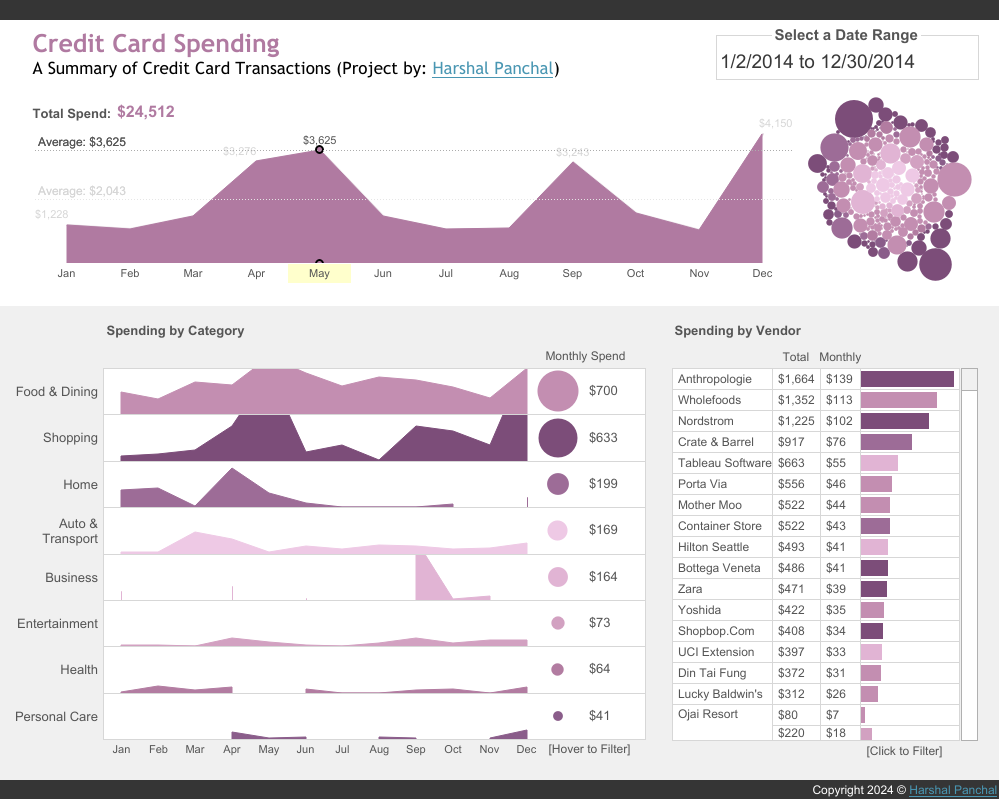

This screenshot's page, from the dashboard's own definition file:
{"tool":"tableau","page":{"name":"Credit Card Spending","canvas":[1000,800],"ordinal":0},"visuals":[{"type":"text","box":[0,0,1000,20]},{"type":"text","box":[8,8,984,784]},{"type":"text","box":[772,25,149,20]},{"type":"text","box":[30,26,644,54]},{"type":"text","box":[716,35,263,45]},{"type":"filter","title":"Monthly Total Expenses","param":"[excel-direct.42173.387268669000].[none:Posted Date:qk]","box":[717,50,261,24]},{"type":"worksheet","title":"Name Monthly Bubble","mark":"Circle","rows":["Calculation_9730618123512405"],"cols":["Calculation_9730618123512405"],"box":[795,96,190,197]},{"type":"text","box":[30,98,100,30]},{"type":"worksheet","title":"Total","mark":"Automatic","rows":["Calculation_9730618123512405"],"cols":["Calculation_9730618123512405"],"box":[113,102,84,23]},{"type":"worksheet","title":"Monthly Total Expenses","mark":"Area","rows":["Expense","Expense"],"cols":["Posted Date"],"box":[35,107,759,176]},{"type":"text","box":[0,306,1000,474]},{"type":"text","box":[104,315,476,30]},{"type":"text","box":[672,315,216,30]},{"type":"text","box":[526,343,119,25]},{"type":"text","box":[780,347,100,20]},{"type":"worksheet","title":"Category Circles","mark":"Circle","rows":["Category"],"cols":["Calculation_9730618123512405"],"box":[530,348,57,392]},{"type":"worksheet","title":"Cat Monthly Bar","mark":"Automatic","rows":["Category"],"cols":["Calculation_9730618123512405"],"box":[585,348,62,392]},{"type":"worksheet","title":"by Category","mark":"Area","rows":["Category","Expense"],"cols":["Posted Date"],"box":[15,368,531,400]},{"type":"worksheet","title":"Name Monthly Bar","mark":"Automatic","rows":["Name","Expense","Calculation_0550618093412487"],"cols":["Calculation_0550618093412487"],"box":[672,368,306,373]},{"type":"text","box":[546,734,100,30]},{"type":"text","box":[864,736,100,30]},{"type":"text","box":[0,780,1000,20]}]}

Visuals, with their boxes in screenshot pixels (x1, y1, x2, y2), scaled from the page's 1000x800 canvas onto the 999x799 screenshot:
text: 0:0:998:20
text: 8:8:991:791
text: 771:25:920:45
text: 30:26:673:80
text: 715:35:978:80
"Monthly Total Expenses" filter: 716:50:977:74
"Name Monthly Bubble" worksheet (Circle marks): 794:96:984:293
text: 30:98:130:128
"Total" worksheet: 113:102:197:125
"Monthly Total Expenses" worksheet (Area marks): 35:107:793:283
text: 0:306:998:779
text: 104:315:579:345
text: 671:315:887:345
text: 525:343:644:368
text: 779:347:879:367
"Category Circles" worksheet (Circle marks): 529:348:586:739
"Cat Monthly Bar" worksheet: 584:348:646:739
"by Category" worksheet (Area marks): 15:368:545:767
"Name Monthly Bar" worksheet: 671:368:977:740
text: 545:733:645:763
text: 863:735:963:765
text: 0:779:998:798
